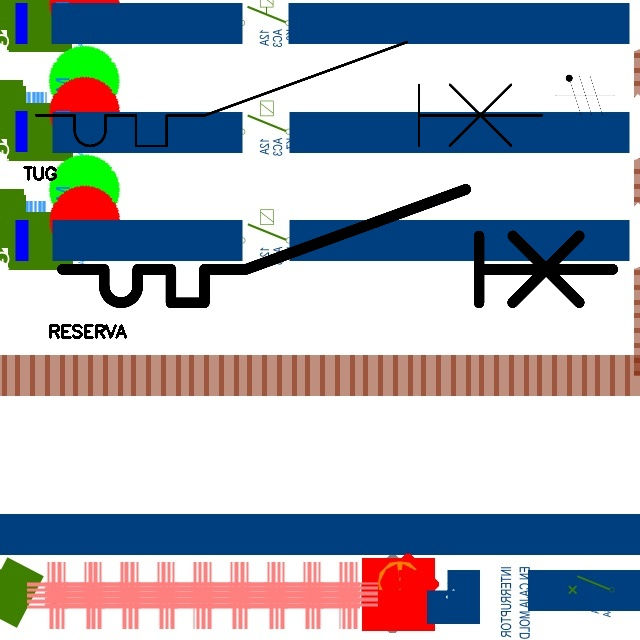interruptor_termomagnetico: (48, 175, 627, 317), (23, 29, 555, 159)
